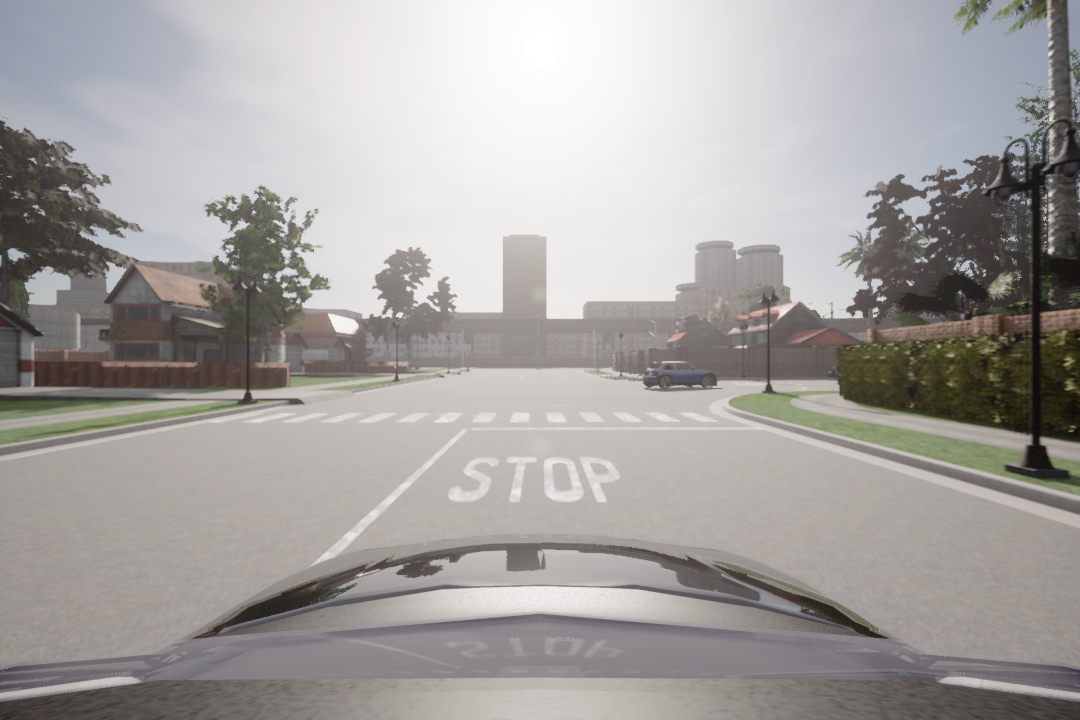walkside: (210, 407, 734, 423)
